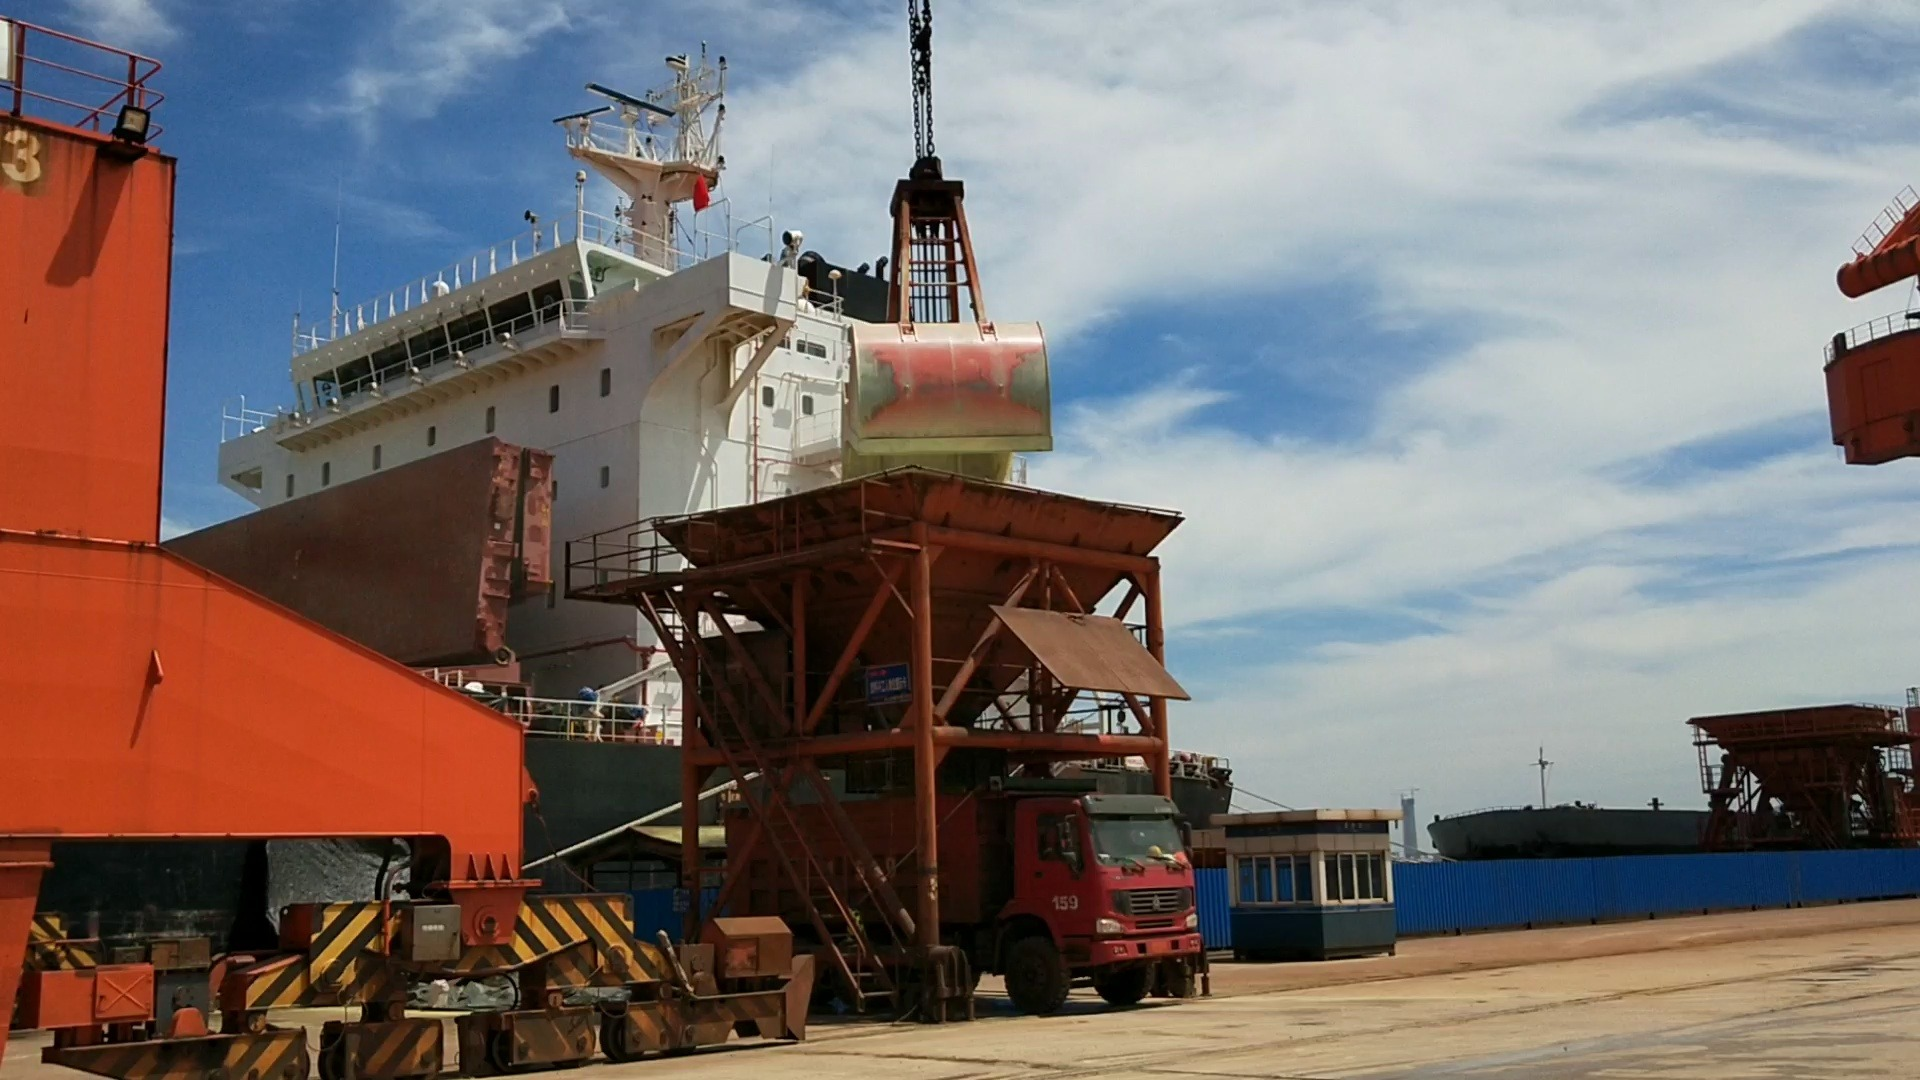grab: (820, 144, 1062, 493)
truck: (943, 761, 1224, 1015)
